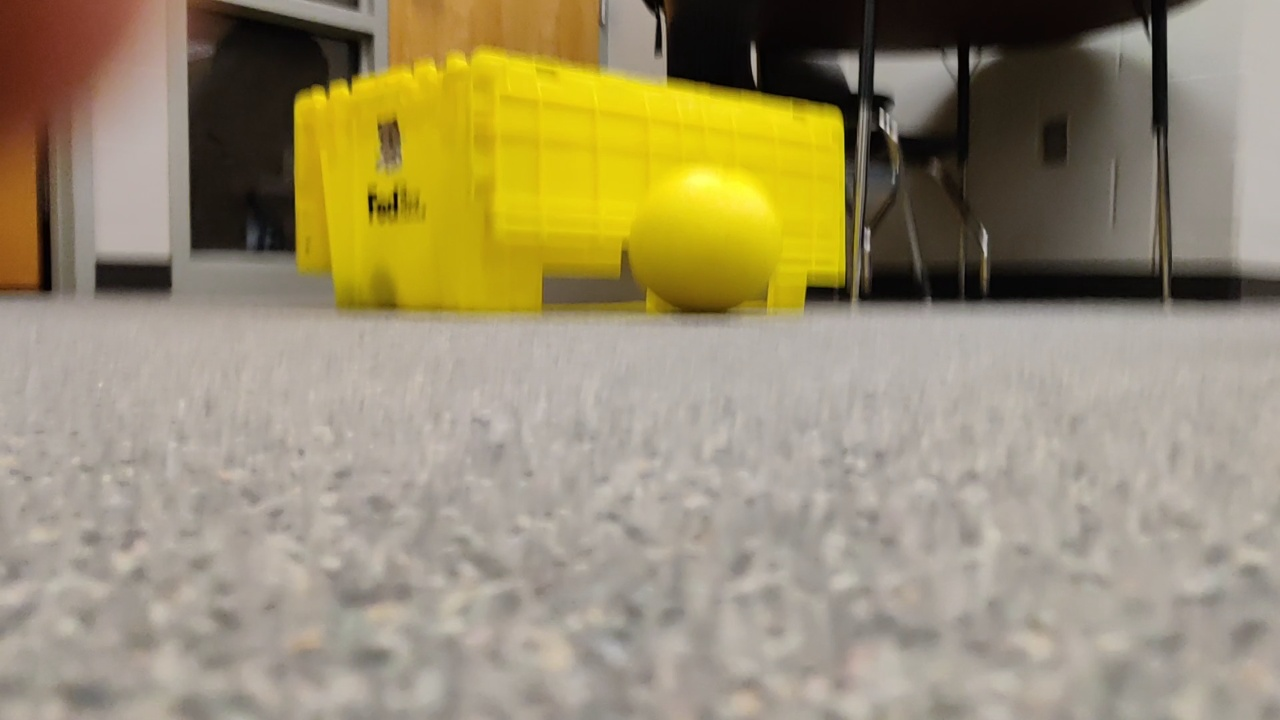Ball: (632, 170, 780, 312)
